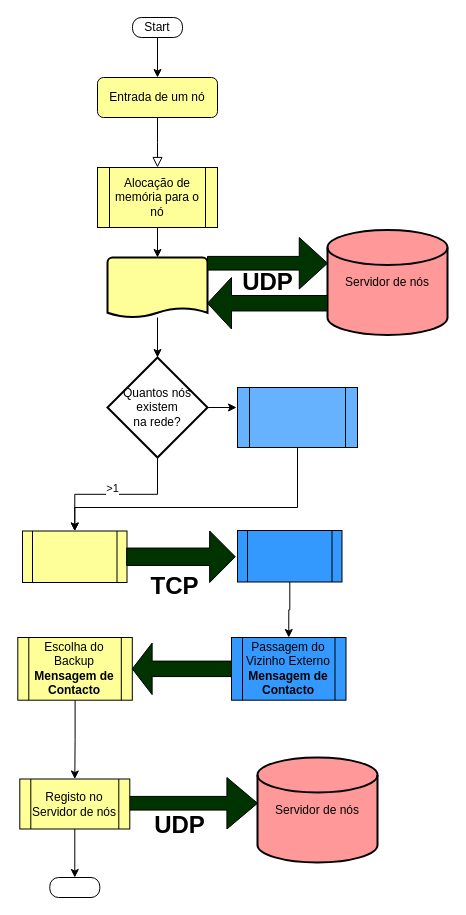
The diagram is 466 pixels wide and 915 high, and some of its shapes have lost their labels. Here are the shapes that lost their labels. From the top down, the box of each, then its label:
(106, 256, 208, 318): Lista de Contactos
(236, 386, 358, 448): Novo nó passa a externo
(22, 530, 127, 582): Escolha do Vizinho Externo
(236, 530, 342, 582): Novo Vizinho Interno
(49, 876, 100, 898): End
